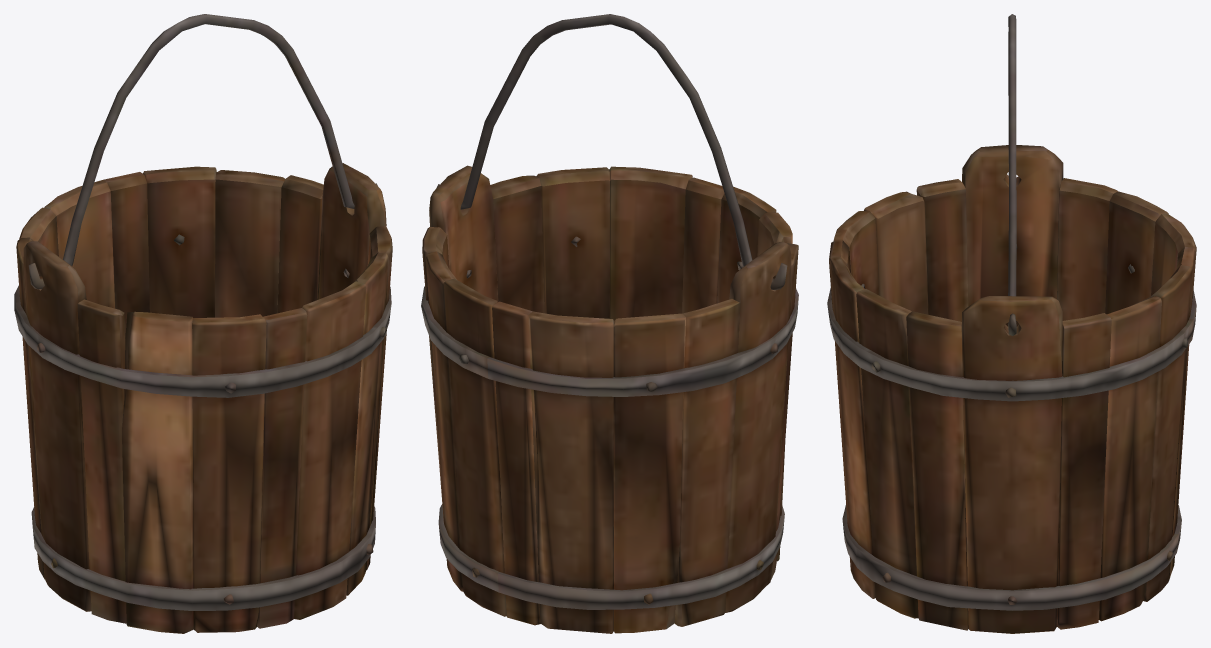
File: bucket.glb
3 renders of one model, left to right at view 1: azimuth 30°, elevation 25°; view 2: azimuth 150°, elevation 25°; view 3: azimuth 270°, elevation 25°, orthographic.
Parts seen in each view (by area): view 1: wooden_bucket_01, wooden_bucket_01_handle; view 2: wooden_bucket_01, wooden_bucket_01_handle; view 3: wooden_bucket_01, wooden_bucket_01_handle.
Part boxes in pixels (x1,y1,x2,y2): wooden_bucket_01: (14, 163, 392, 633); wooden_bucket_01_handle: (28, 14, 377, 289); wooden_bucket_01: (421, 165, 798, 633); wooden_bucket_01_handle: (436, 14, 787, 290); wooden_bucket_01: (827, 145, 1196, 633); wooden_bucket_01_handle: (1008, 14, 1016, 335).
Size of the model in its own units: 0.3663 by 0.5499 by 0.3407.
Materials: 1 (1 with a texture image).
